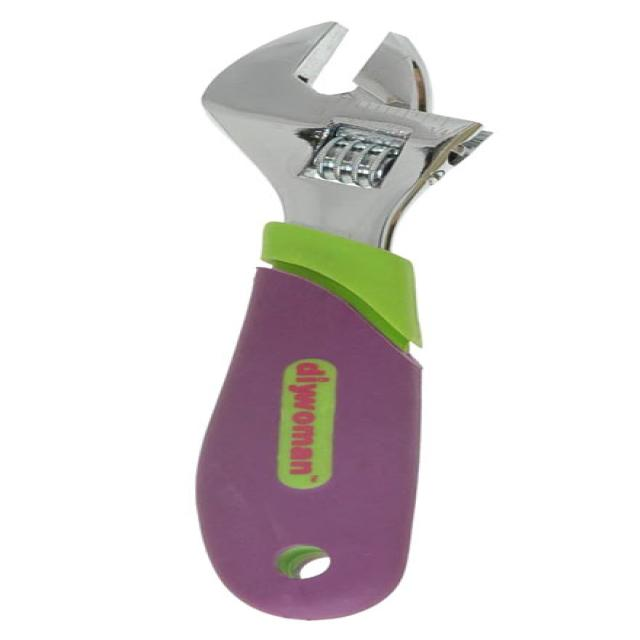wrench: (166, 6, 640, 616)
